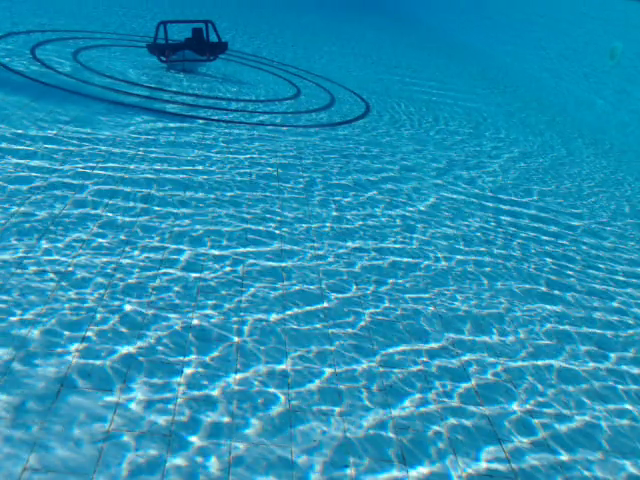submarine: (147, 20, 231, 73)
